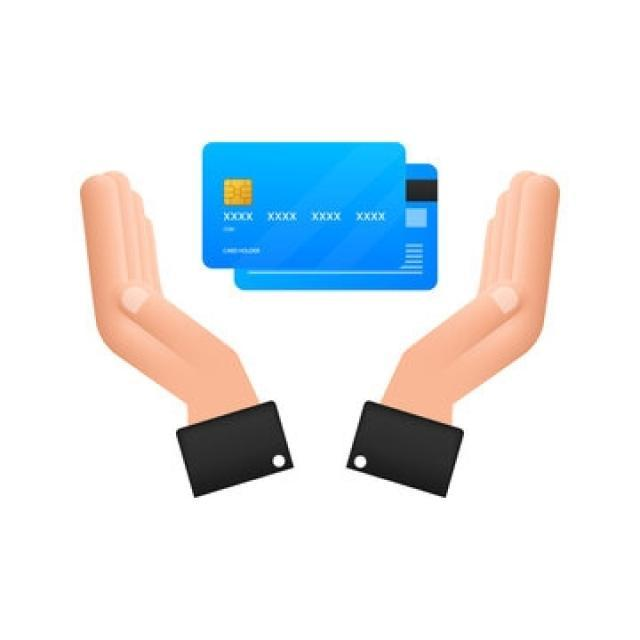payment_card: (200, 139, 405, 268)
